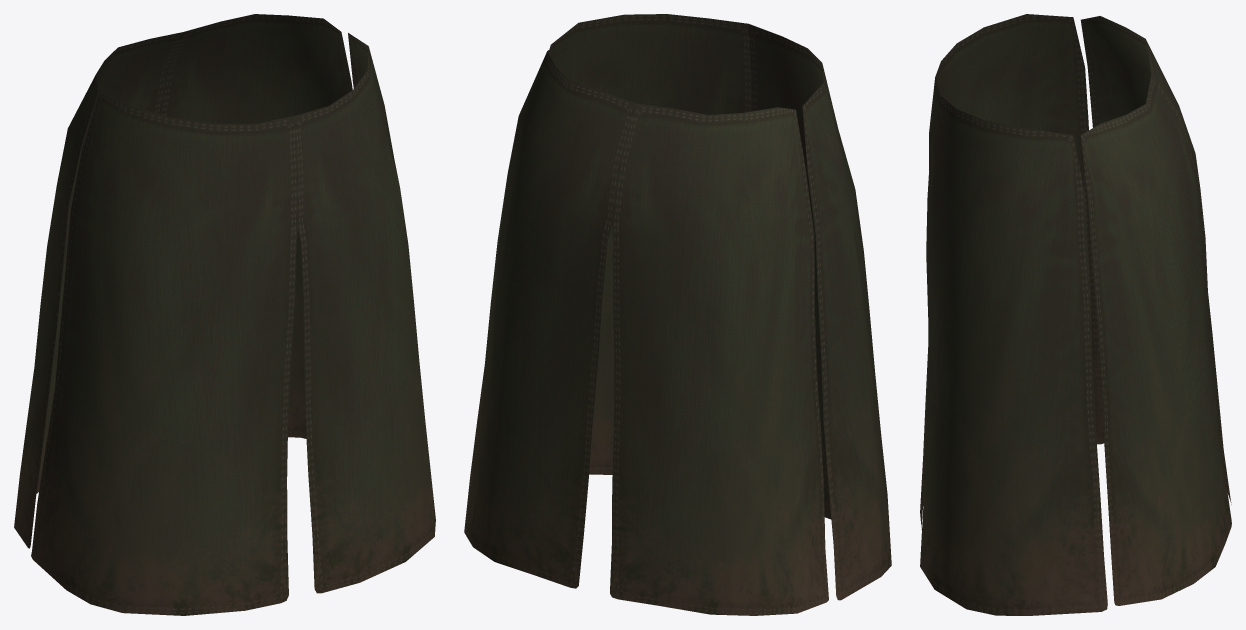
The model's file is clo_faramir_armor.fbx.
3 views of the same model, side by side, from view 1: azimuth 30°, elevation 25°; view 2: azimuth 150°, elevation 25°; view 3: azimuth 270°, elevation 25° (orthographic). The views are drawn at different scales.
Parts seen in each view (by area): view 1: clo_faramir_armor; view 2: clo_faramir_armor; view 3: clo_faramir_armor.
Part boxes in pixels (<box>): clo_faramir_armor: <box>14,14,435,615</box>; clo_faramir_armor: <box>464,14,891,615</box>; clo_faramir_armor: <box>920,14,1231,615</box>.
Bounding box in the file's own units: 0.481 × 0.372 × 0.6206.
Materials: 1 (1 with a texture image).
